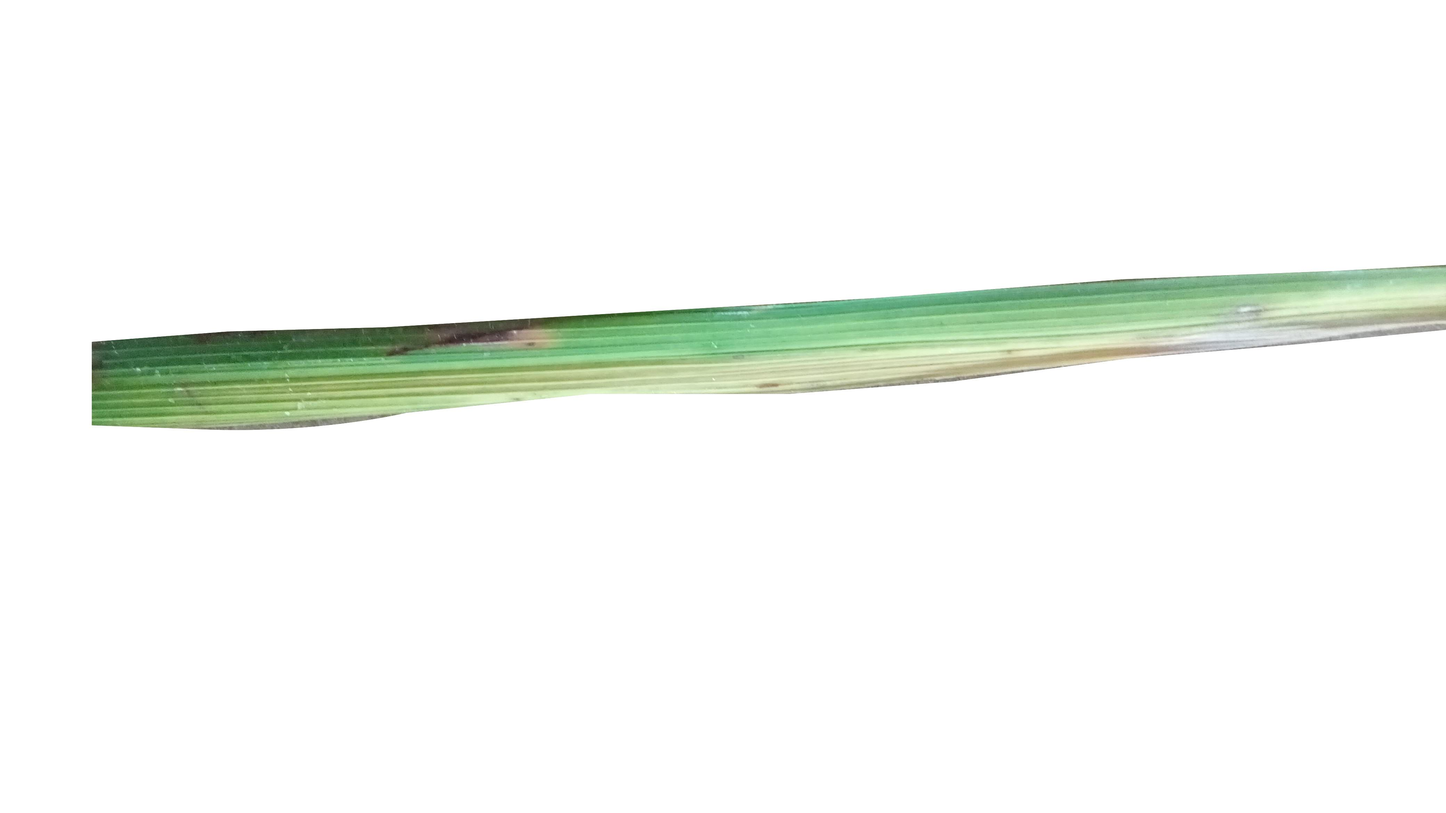Rice blast: (405, 314, 627, 365)
